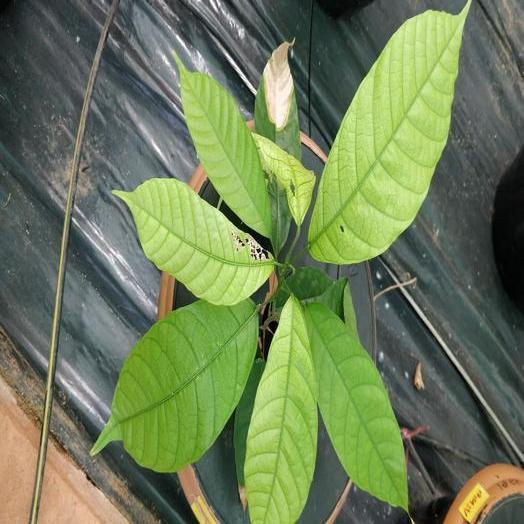Iron: (308, 0, 470, 263), (92, 299, 256, 472), (304, 305, 407, 511), (114, 178, 274, 304), (175, 53, 271, 237), (244, 297, 317, 523), (254, 42, 312, 252), (234, 358, 265, 511), (276, 267, 348, 318)
